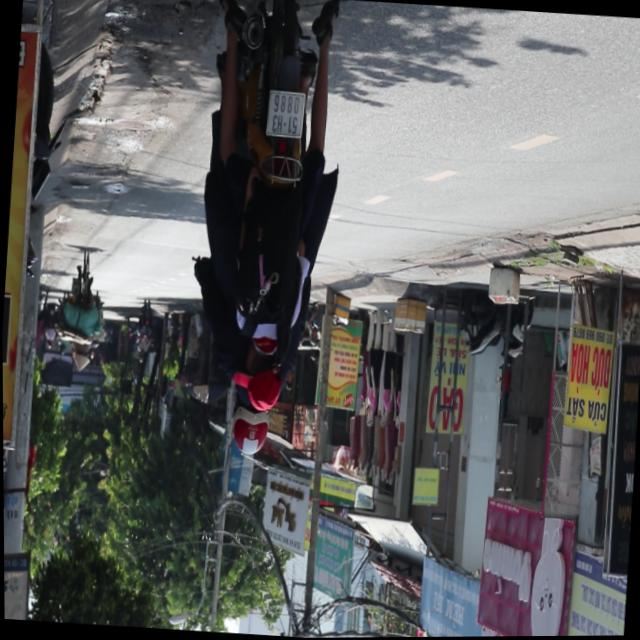helmet: (227, 399, 274, 459)
licenseplate: (175, 0, 354, 467)
motorcyclist: (230, 341, 285, 413)
nohelmet: (265, 89, 304, 137)
